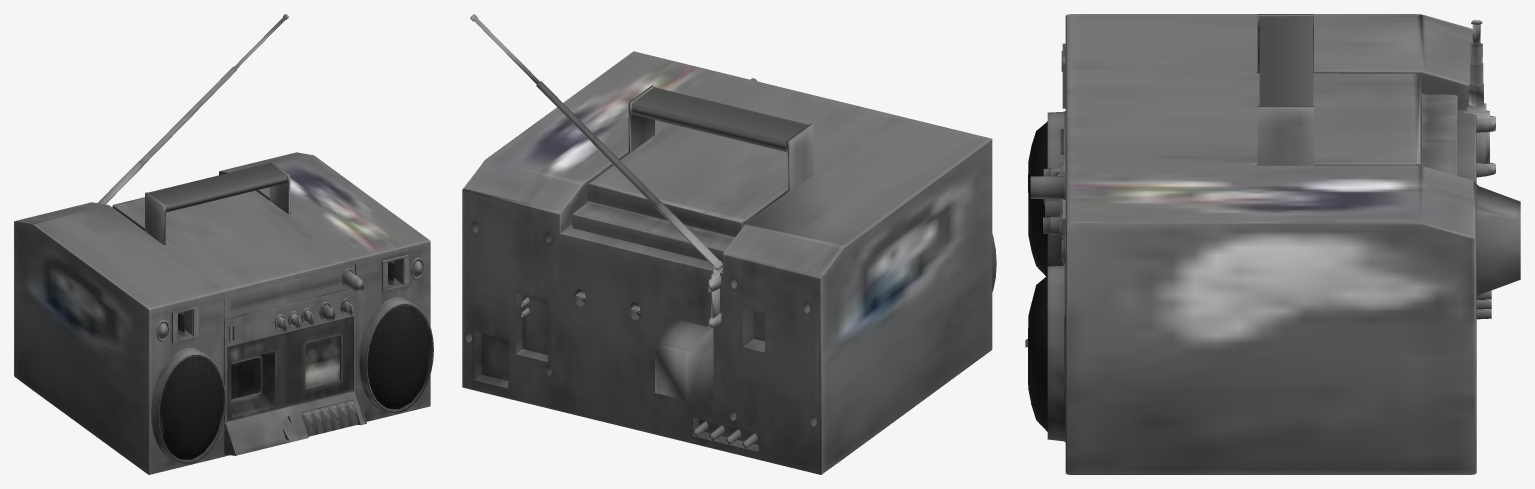
Rendered from ph-boombox.glb.
The picture shows the model from 3 angles, left to right: view 1: azimuth 30°, elevation 25°; view 2: azimuth 150°, elevation 25°; view 3: azimuth 270°, elevation 25°; orthographic projection. The views are drawn at different scales.
Parts seen in each view (by area): view 1: boombox; view 2: boombox; view 3: boombox.
Part boxes in pixels (x1,y1,x2,y2): boombox: (14,14,433,474); boombox: (462,14,996,474); boombox: (1025,14,1520,474).
Bounding box in the file's own units: 1 × 0.9999 × 1.
Materials: 2 (2 with a texture image).
